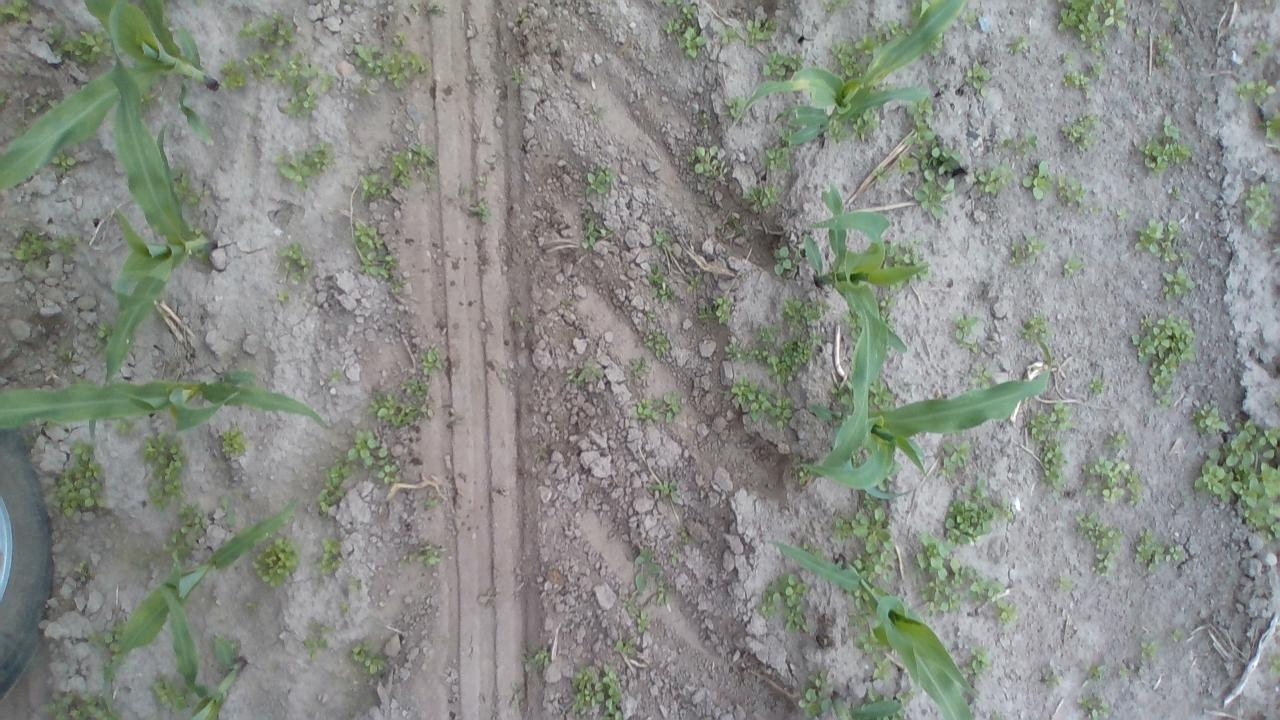Maize: (88, 7, 223, 438), (798, 296, 1054, 500), (1, 0, 220, 193), (765, 535, 979, 720), (115, 498, 296, 703), (725, 0, 967, 144), (0, 374, 329, 458), (804, 182, 930, 356), (165, 585, 248, 720), (829, 692, 903, 720)
Weeds: (1186, 420, 1280, 543), (910, 531, 1009, 616), (900, 99, 966, 219), (317, 427, 402, 520), (1131, 310, 1196, 408), (252, 47, 340, 118), (370, 340, 442, 424), (50, 438, 112, 520), (356, 139, 434, 204), (941, 480, 1013, 546), (721, 335, 819, 383), (1028, 402, 1076, 494), (1056, 0, 1128, 54), (140, 432, 186, 514), (828, 495, 894, 551), (1082, 452, 1144, 511), (352, 38, 424, 88), (1133, 110, 1190, 172), (1072, 509, 1122, 576), (728, 378, 797, 426), (44, 21, 113, 69), (761, 569, 811, 634), (272, 142, 338, 190), (573, 662, 627, 720), (1132, 526, 1188, 578), (12, 229, 80, 270), (254, 533, 301, 591), (353, 219, 399, 278), (85, 610, 123, 680), (160, 504, 200, 568), (41, 691, 121, 720), (1134, 218, 1186, 260), (784, 292, 838, 326), (1056, 109, 1100, 150), (242, 10, 292, 46), (936, 439, 979, 480), (628, 540, 659, 594), (798, 672, 834, 718), (686, 141, 729, 179), (152, 670, 192, 710), (852, 548, 896, 584), (1244, 182, 1274, 232), (168, 166, 204, 206), (696, 294, 734, 330), (1006, 230, 1044, 266), (641, 267, 676, 306), (960, 58, 994, 98), (972, 165, 1012, 199), (348, 642, 388, 675), (760, 49, 804, 79), (302, 619, 334, 660), (314, 536, 346, 575), (832, 40, 864, 78), (740, 15, 776, 48), (951, 309, 983, 346), (1164, 265, 1198, 299), (1194, 402, 1226, 438), (281, 241, 312, 278), (622, 594, 651, 632), (641, 329, 676, 360), (662, 388, 688, 428), (1022, 162, 1050, 199), (1234, 78, 1275, 103), (584, 162, 616, 194), (678, 26, 708, 60), (1001, 133, 1040, 159), (222, 426, 252, 459), (406, 542, 444, 568), (222, 53, 248, 90), (746, 182, 778, 212), (1075, 691, 1111, 717), (568, 362, 600, 390), (0, 0, 34, 26), (886, 239, 920, 265), (964, 642, 990, 676), (852, 114, 881, 144), (580, 219, 609, 248), (1056, 175, 1084, 205), (28, 85, 61, 110), (744, 319, 781, 341), (652, 476, 684, 501), (769, 244, 794, 276), (1018, 314, 1048, 340), (1258, 105, 1280, 139), (628, 357, 656, 383), (1101, 429, 1134, 451), (1152, 33, 1172, 67), (524, 646, 550, 672), (766, 146, 794, 170), (636, 397, 659, 424), (721, 94, 744, 121), (880, 20, 911, 40), (670, 531, 688, 564), (871, 379, 892, 406), (1062, 72, 1090, 92), (654, 573, 672, 604), (1264, 651, 1280, 685), (108, 417, 136, 436), (1063, 252, 1083, 278), (970, 362, 991, 386), (870, 660, 892, 682), (894, 688, 918, 708), (831, 382, 850, 407), (1138, 640, 1159, 662), (1040, 664, 1062, 685), (470, 199, 490, 222), (1087, 664, 1110, 684), (587, 98, 608, 119), (508, 62, 528, 84), (878, 288, 898, 310), (828, 122, 848, 144), (1056, 570, 1076, 592), (821, 0, 850, 15), (996, 600, 1012, 627), (650, 226, 671, 246), (959, 9, 978, 31), (660, 19, 683, 37), (858, 34, 878, 54), (616, 635, 636, 655), (1008, 34, 1028, 54), (851, 630, 870, 651), (871, 167, 890, 188), (1250, 37, 1272, 55), (718, 26, 736, 47), (52, 153, 78, 167), (802, 541, 822, 559), (848, 316, 862, 341), (1158, 0, 1177, 17), (94, 324, 112, 341), (1088, 379, 1106, 396), (1086, 60, 1106, 75), (1169, 626, 1184, 646), (348, 576, 364, 594), (652, 0, 684, 9), (686, 271, 700, 291), (330, 367, 346, 384), (1119, 663, 1135, 679), (0, 88, 12, 109), (934, 38, 944, 63), (795, 467, 807, 487), (423, 496, 438, 512), (514, 11, 532, 24), (1168, 183, 1182, 199), (1133, 25, 1147, 40), (680, 6, 696, 19), (1113, 208, 1127, 221), (561, 295, 575, 307), (642, 307, 656, 318), (338, 604, 349, 617), (1060, 52, 1074, 62), (276, 292, 288, 301)
